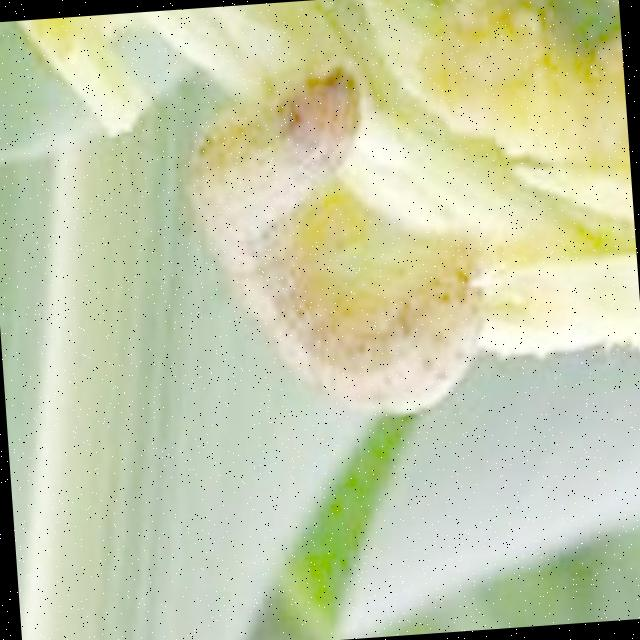worm: (179, 58, 497, 433)
